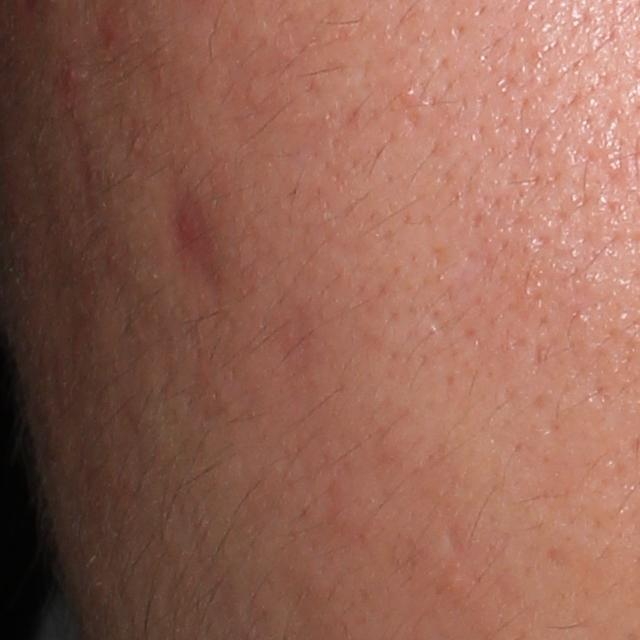atrophic_scar: (164, 155, 233, 333), (41, 94, 119, 242), (434, 522, 470, 570)
